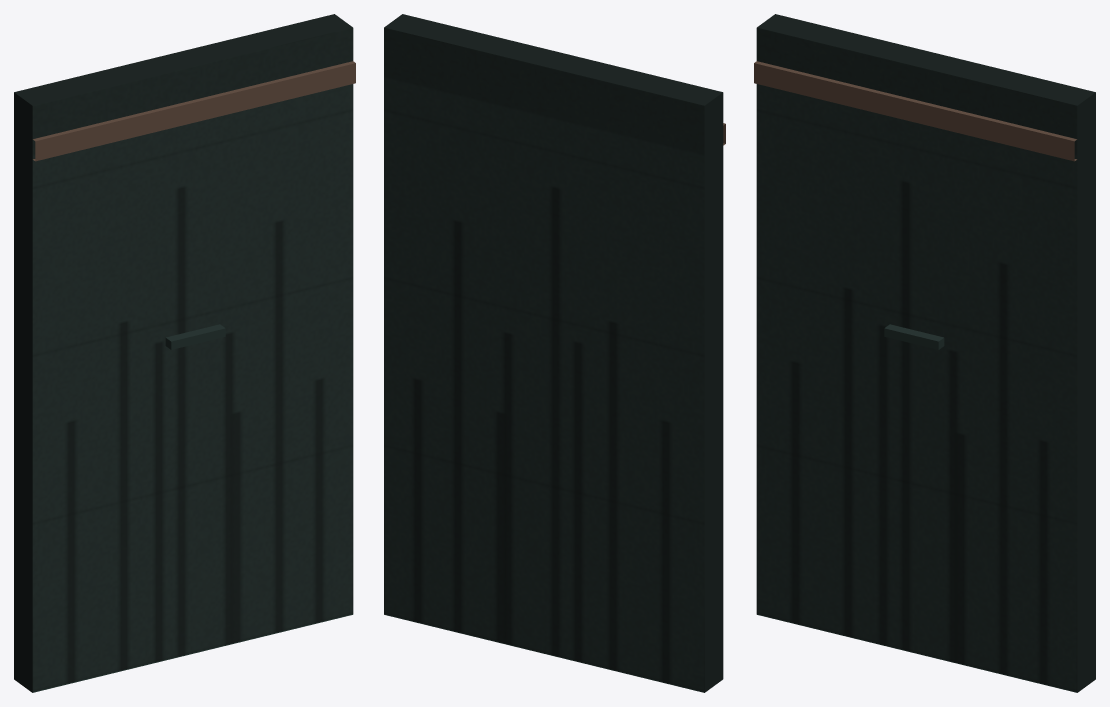
Rendered from SM_Machine_Wall_Upper_200x350.fbx.
3 renders of one model, left to right at view 1: azimuth 30°, elevation 25°; view 2: azimuth 150°, elevation 25°; view 3: azimuth 330°, elevation 25°, orthographic.
Parts seen in each view (by area): view 1: SM_Machine_Wall_Upper_200x350.001; view 2: SM_Machine_Wall_Upper_200x350.001; view 3: SM_Machine_Wall_Upper_200x350.001.
Boxes of the visible parts, x1,y1,x2,y2 form: SM_Machine_Wall_Upper_200x350.001: (14,14,355,692); SM_Machine_Wall_Upper_200x350.001: (384,14,725,692); SM_Machine_Wall_Upper_200x350.001: (754,14,1095,692).
Size of the model in its own units: 2 by 3.5 by 0.26.
